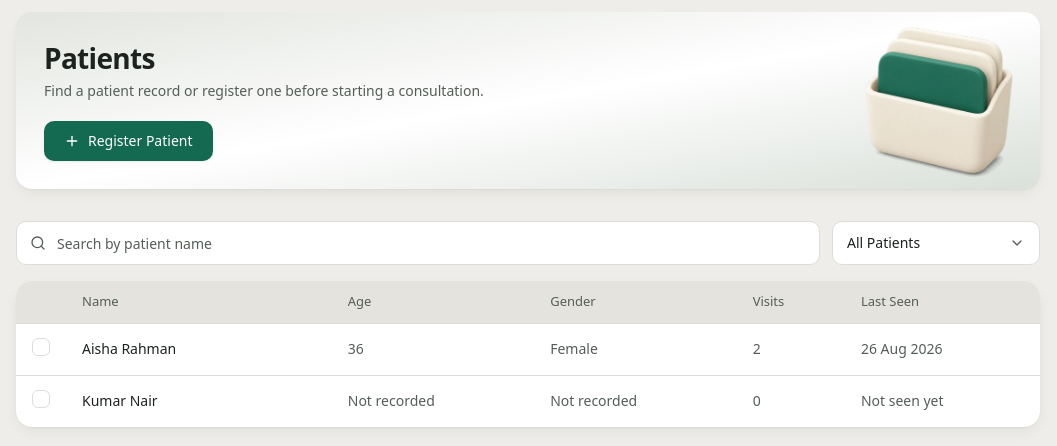
Scenario: PatientList › searches patients by name
The image size is (1057, 446).
Expected: the link "Aisha Rahman" is shown, top-left (82, 339), bottom-right (176, 359)
Type "kumar" into the search field named "search patients" at coordinates (418, 243), box top-left (16, 221), bottom-right (820, 265)
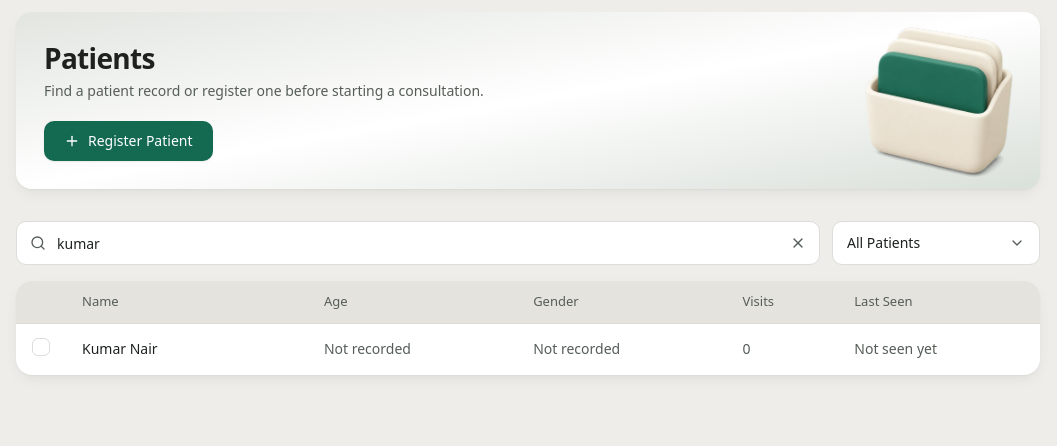
Expected: the link "Kumar Nair" is shown, top-left (82, 339), bottom-right (158, 359)
Now the link "Aisha Rahman" is gone
